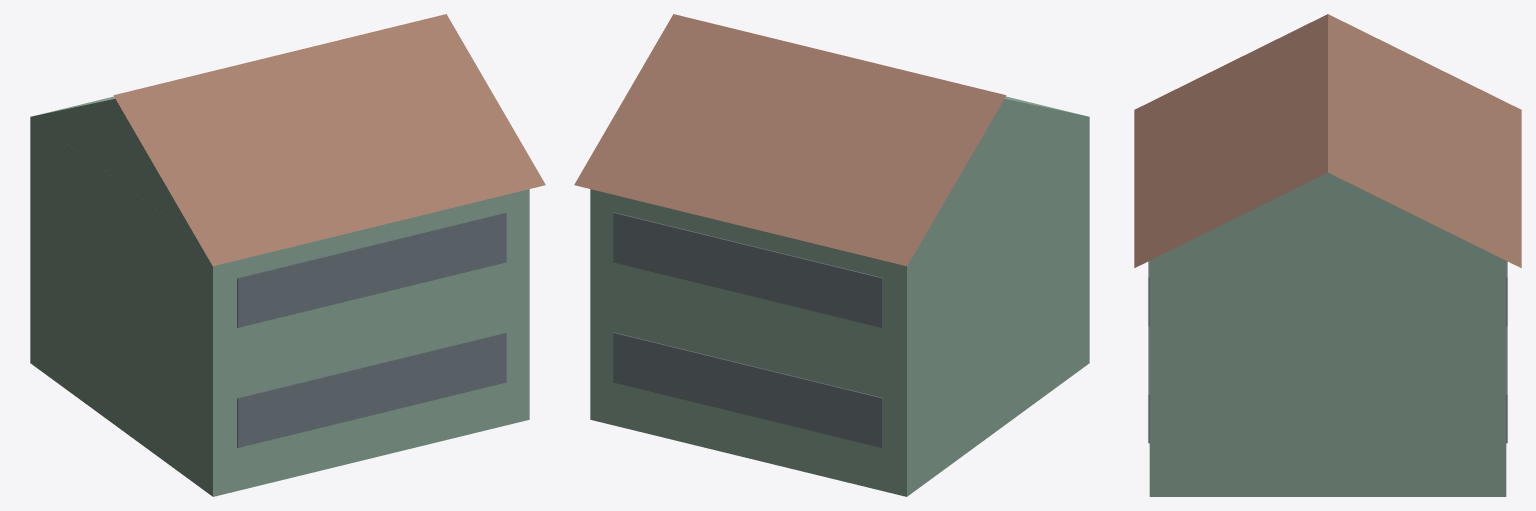
The model's file is cove-house-green.coast-v2.lod2.glb.
The picture shows the model from 3 angles, left to right: view 1: azimuth 30°, elevation 25°; view 2: azimuth 150°, elevation 25°; view 3: azimuth 270°, elevation 25°; orthographic projection. The views are drawn at different scales.
Parts seen in each view (by area): view 1: cove-house-green; view 2: cove-house-green; view 3: cove-house-green.
Part boxes in pixels (box(x1,y1,x2,y2)): cove-house-green: box(30, 14, 545, 496); cove-house-green: box(574, 14, 1089, 496); cove-house-green: box(1134, 14, 1521, 496).
Size of the model in its own units: 8.42 by 8.13 by 8.7.
